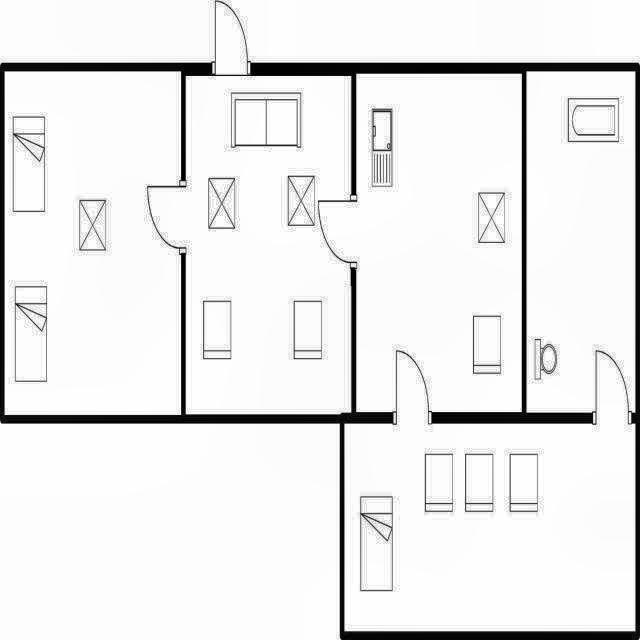room: (344, 423, 635, 631), (6, 73, 181, 415), (186, 76, 352, 414), (356, 73, 522, 411), (527, 72, 635, 412)
